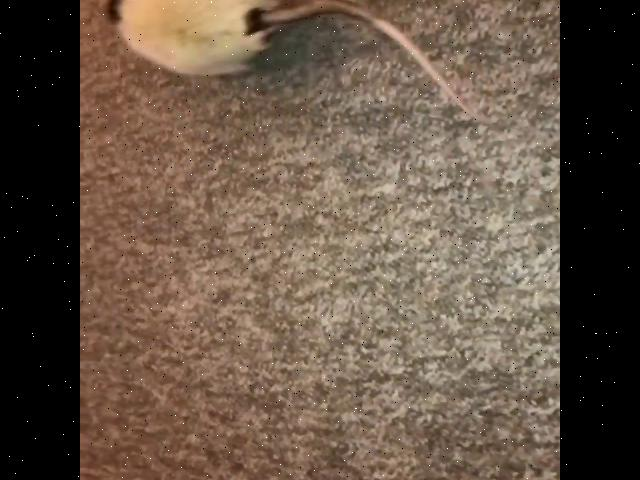Tikus: (100, 0, 280, 78)
